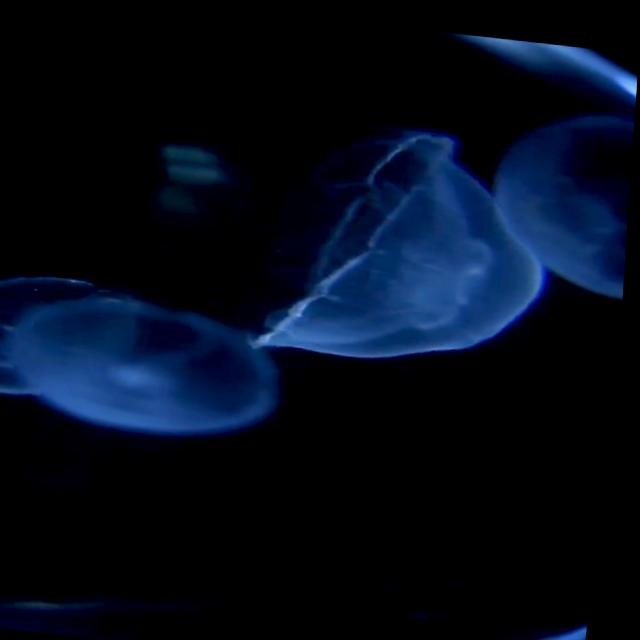Moon-jellyfish: (0, 126, 545, 432)
